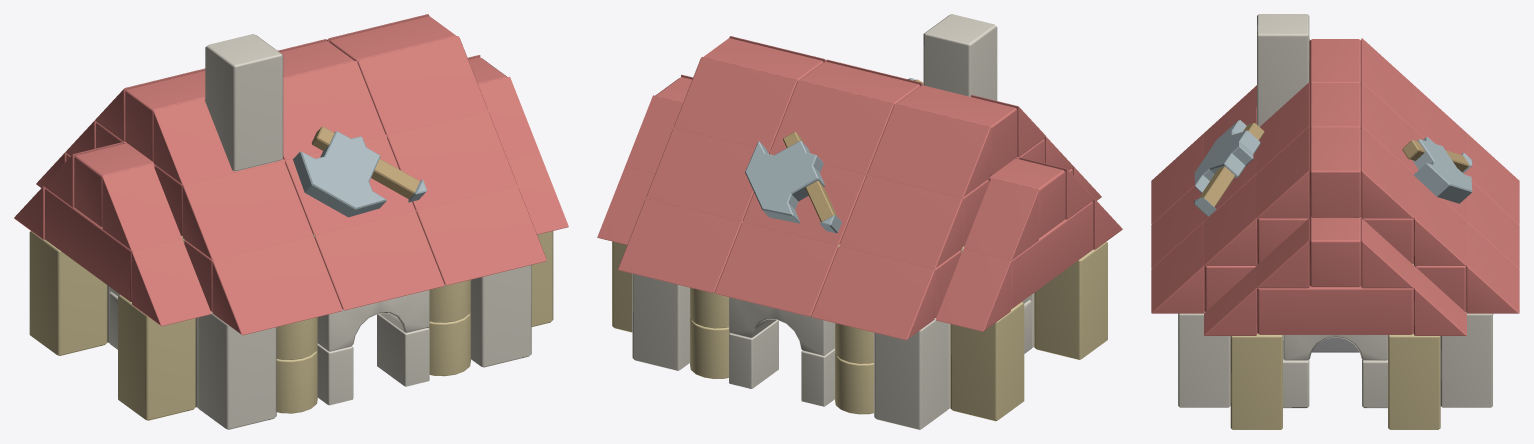
The model's file is house ax.fbx.
3 views of the same model, side by side, from view 1: azimuth 30°, elevation 25°; view 2: azimuth 150°, elevation 25°; view 3: azimuth 270°, elevation 25° (orthographic). The views are drawn at different scales.
Parts seen in each view (by area): view 1: pCube639, pCube638, pCube108, pCube433, pCube426, pCube427, pCube424, pCube660, pCube52, pCube661, pCube637, symbol1:pPlane8 (+27 smaller); view 2: pCube633, pCube635, pCube634, pCube436, pCube437, pCube445, pCube441, pCube444, pCube661, pCube51, pCube660, pCube108 (+26 smaller); view 3: pCube658, pCube656, pCube654, pCube108, pCube525, pCube43, pCube48, pCube427, pCube445, pCube523, pCube426, pCube436 (+29 smaller).
Part boxes in pixels (x1,y1,x2,y2): pCube639: (212,236,342,335); pCube638: (183,160,312,259); pCube108: (205,34,283,171); pCube433: (314,211,444,310); pCube426: (416,186,546,285); pCube427: (358,36,487,135); pCube424: (387,111,517,210); pCube660: (118,295,195,420); pCube52: (198,311,276,429); pCube661: (29,231,107,355); pCube637: (283,61,385,160); symbol1:pPlane8: (293,126,426,217); pCube633: (811,246,934,340); pCube635: (867,104,990,197); pCube634: (839,175,962,268); pCube436: (618,199,741,293); pCube437: (715,222,837,316); pCube445: (674,57,796,150); pCube441: (646,128,769,221); pCube444: (770,80,893,174); pCube661: (950,302,1024,421); pCube51: (874,318,947,429); pCube660: (1034,241,1107,359); pCube108: (923,14,997,100); pCube658: (1257,286,1413,334); pCube656: (1388,333,1440,429); pCube654: (1230,333,1282,429); pCube108: (1257,14,1309,126); pCube525: (1309,127,1361,217); pCube43: (1440,312,1492,407); pCube48: (1178,312,1230,407); pCube427: (1256,127,1309,218); pCube445: (1361,127,1414,218); pCube523: (1309,216,1361,287); pCube426: (1151,222,1204,313); pCube436: (1466,222,1519,313).
Size of the model in its own units: 144 by 108 by 126.
